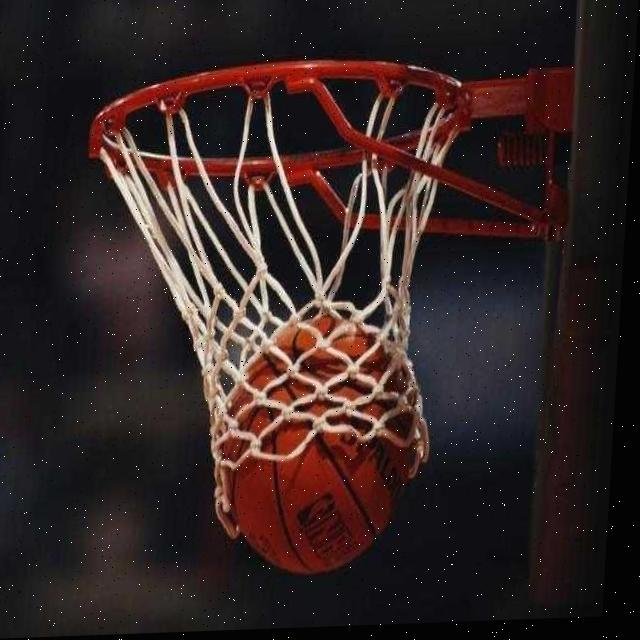Goal: (211, 313, 427, 575)
